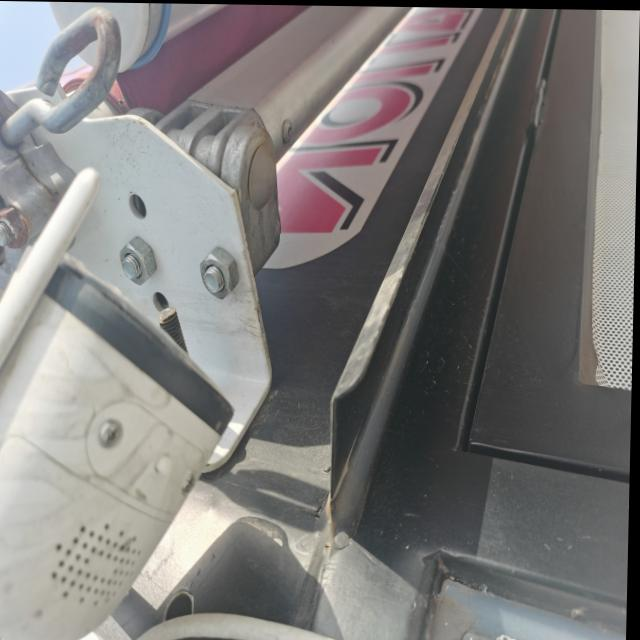Regular bolt: (201, 247, 242, 299), (121, 236, 160, 285)
Rusty bolt: (1, 209, 29, 249)
